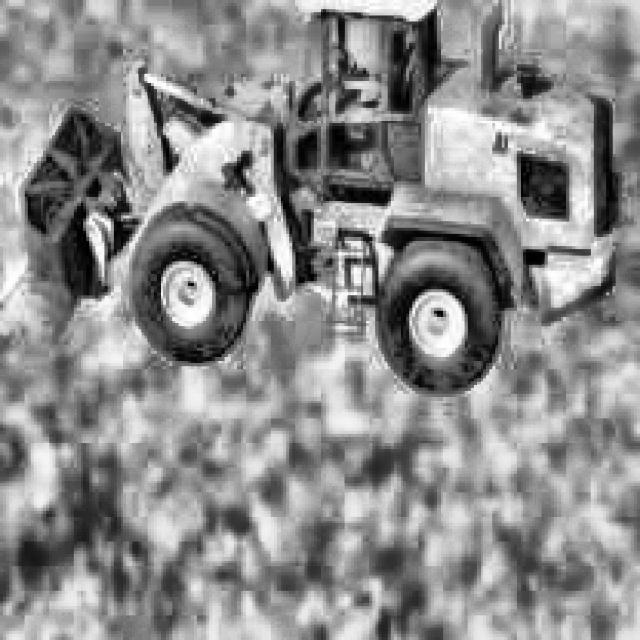buldozerpayloadergrader: (0, 0, 628, 394)
